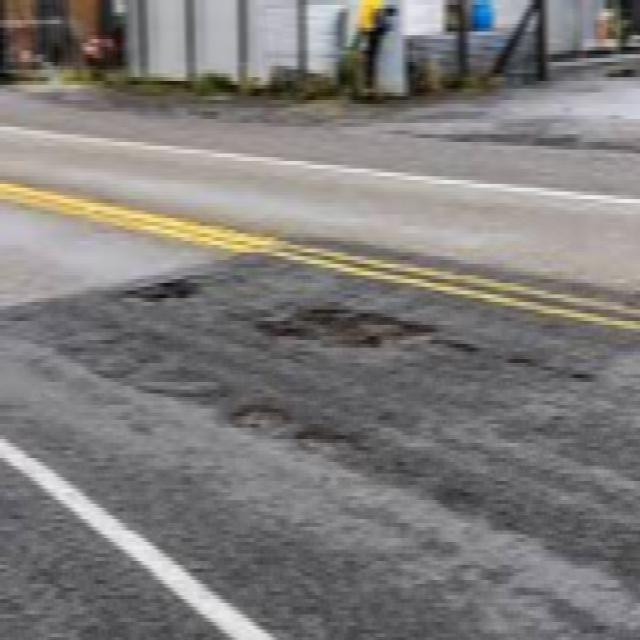Pothole: (384, 445, 512, 522), (260, 289, 422, 347), (143, 358, 234, 410), (226, 393, 295, 438), (118, 274, 205, 308), (295, 422, 347, 443)
